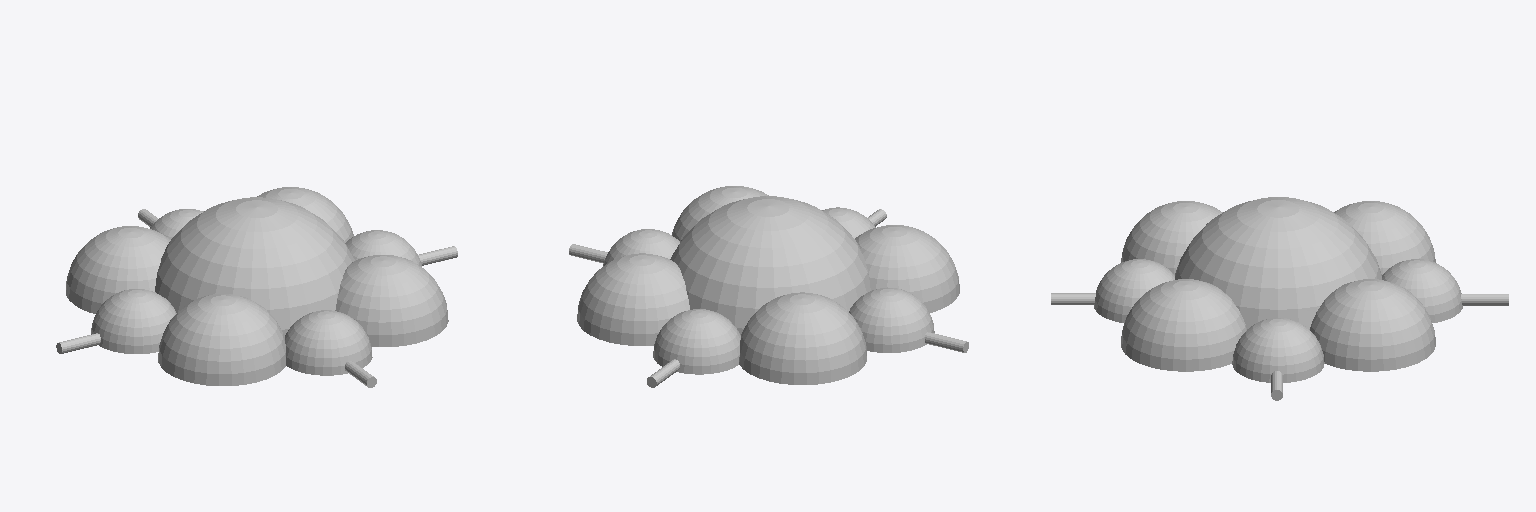
The model's file is textures.obj.
The picture shows the model from 3 angles: view 1: azimuth 30°, elevation 25°; view 2: azimuth 150°, elevation 25°; view 3: azimuth 270°, elevation 25°; orthographic projection.
Parts seen in each view (by area): view 1: Cylinder003_Cylinder003; view 2: Cylinder003_Cylinder003; view 3: Cylinder003_Cylinder003.
Part boxes in pixels (bbox=[...]): Cylinder003_Cylinder003: bbox=[56, 187, 457, 387]; Cylinder003_Cylinder003: bbox=[569, 186, 968, 387]; Cylinder003_Cylinder003: bbox=[1051, 197, 1508, 400].
Bounding box in the file's own units: 98.67 × 23.49 × 99.24.